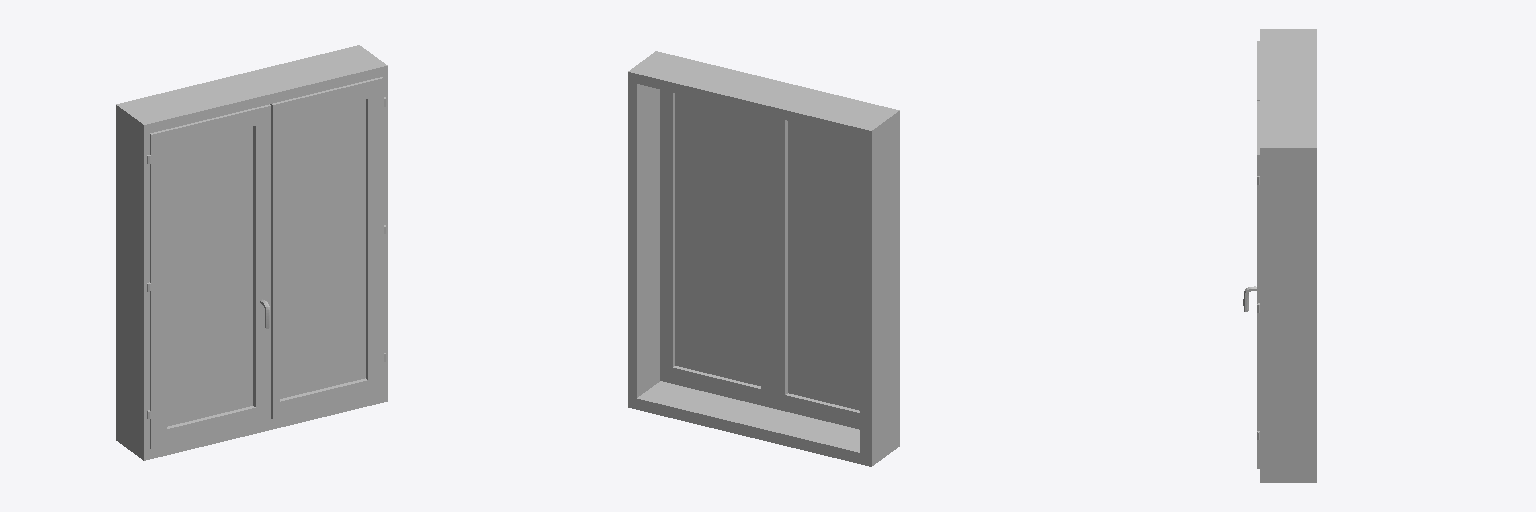
The model's file is window2.obj.
The picture shows the model from 3 angles: view 1: azimuth 30°, elevation 25°; view 2: azimuth 150°, elevation 25°; view 3: azimuth 270°, elevation 25°; orthographic projection.
Parts seen in each view (by area): view 1: sweethome3d_window_pane_1_8, Tour_Fenetre_12, Fenetre_1_6, Fenetre_2_7; view 2: Tour_Fenetre_12, sweethome3d_window_pane_1_8, Fenetre_2_7, Fenetre_1_6; view 3: Tour_Fenetre_12, Fenetre_2_7.
Part boxes in pixels (x1,y1,x2,y2): sweethome3d_window_pane_1_8: (280,99,365,398); Tour_Fenetre_12: (116,45,387,460); Fenetre_1_6: (150,104,270,449); Fenetre_2_7: (270,77,383,419); Tour_Fenetre_12: (628,51,899,466); sweethome3d_window_pane_1_8: (675,93,760,385); Fenetre_2_7: (660,90,767,406); Fenetre_1_6: (764,115,859,429); Tour_Fenetre_12: (1260,29,1316,482); Fenetre_2_7: (1257,101,1259,468).
Bounding box in the file's own units: 132 × 174 × 34.3.